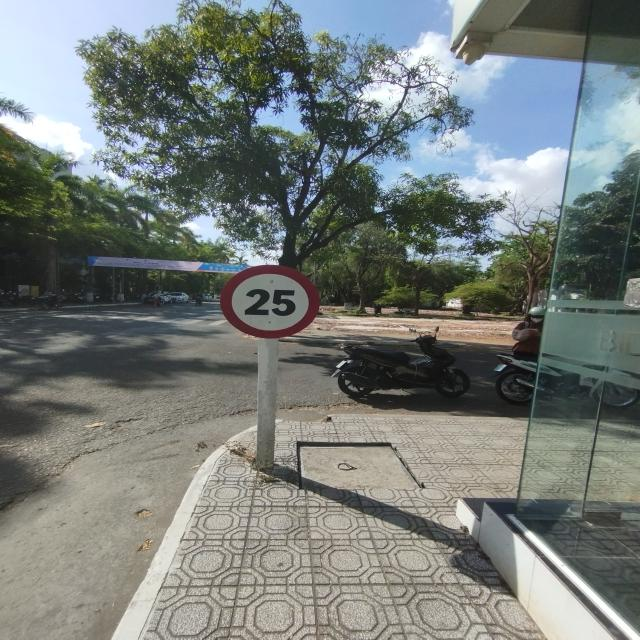Tre_Em: (219, 264, 321, 340)
